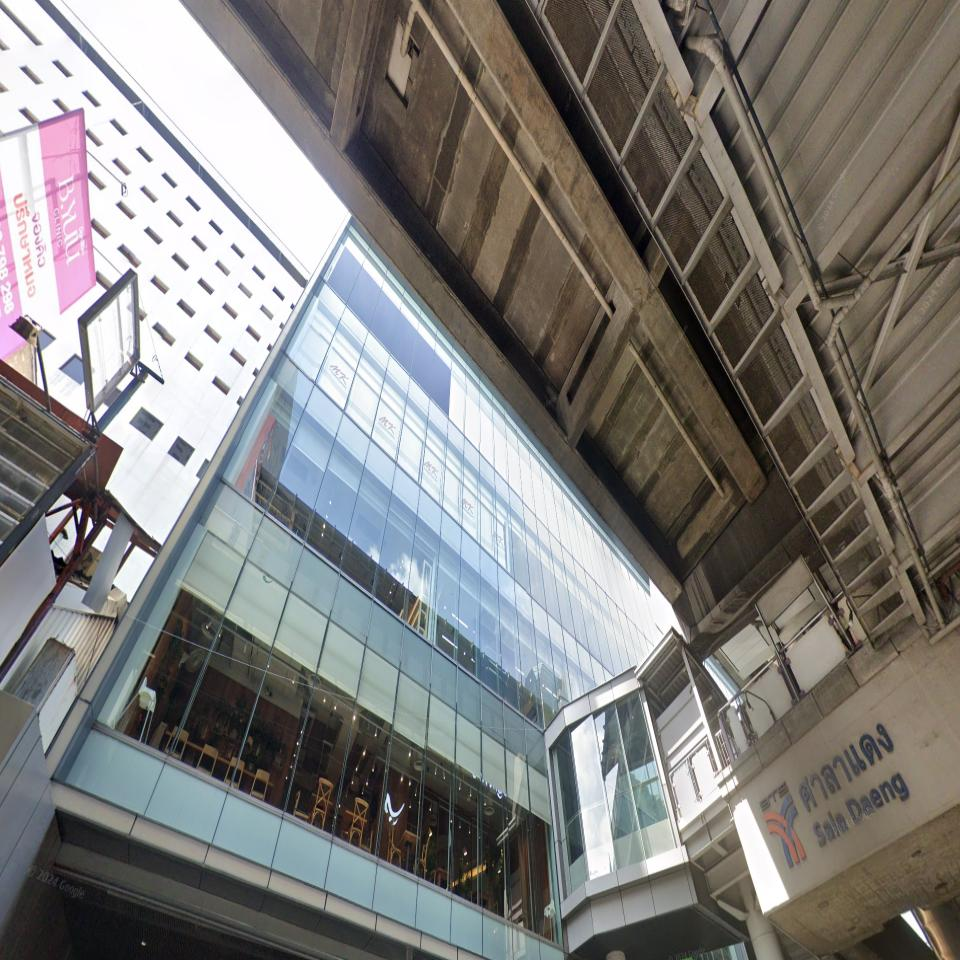signage: (758, 720, 912, 869), (798, 720, 911, 850)
